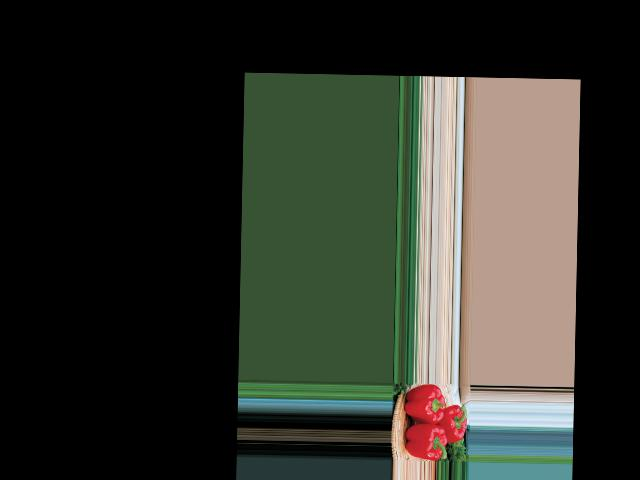bell_pepper: (399, 417, 448, 460)
